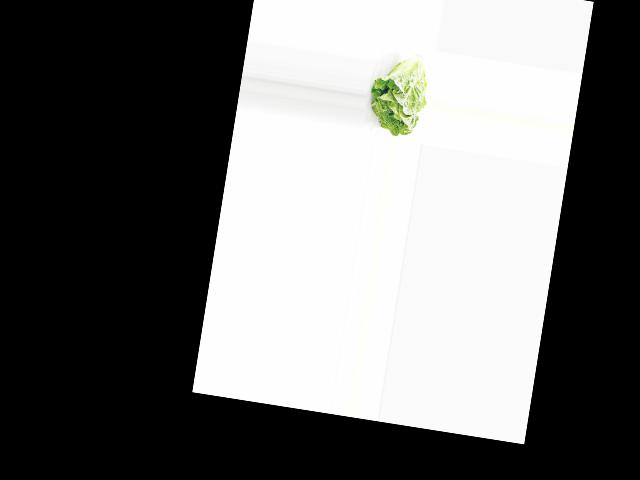lettuce: (363, 49, 434, 139)
